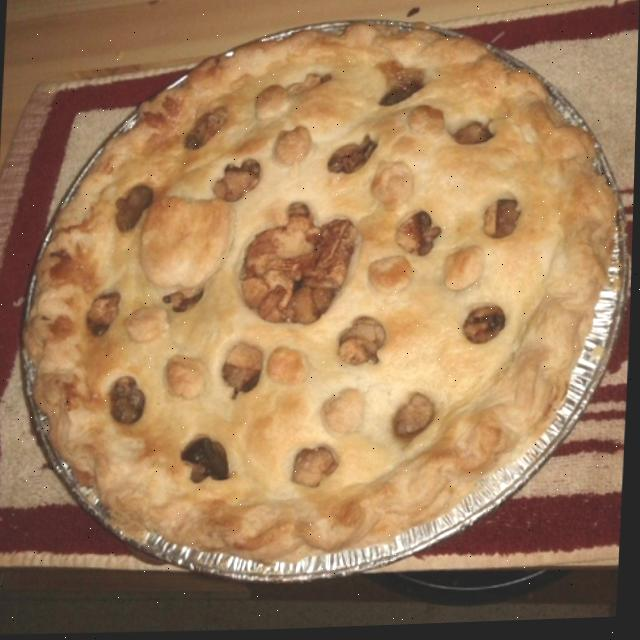炸货点心: (5, 0, 640, 598)
蛋糕甜品: (5, 0, 640, 598)
